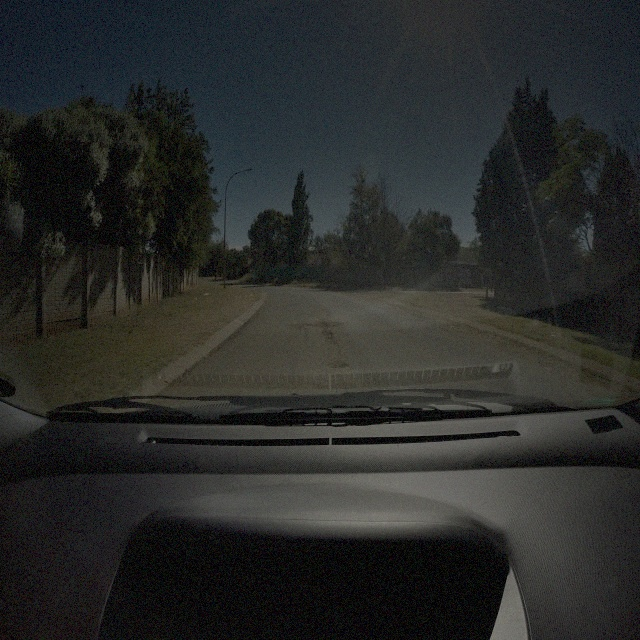pothole: (290, 317, 344, 330), (327, 360, 349, 370)
